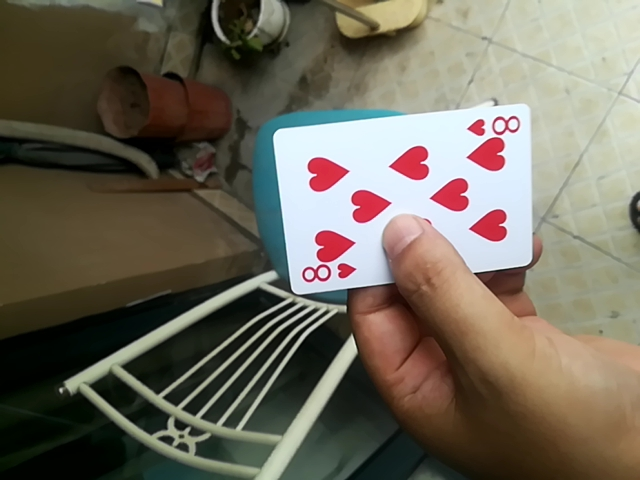hx 8: (267, 103, 532, 296)
